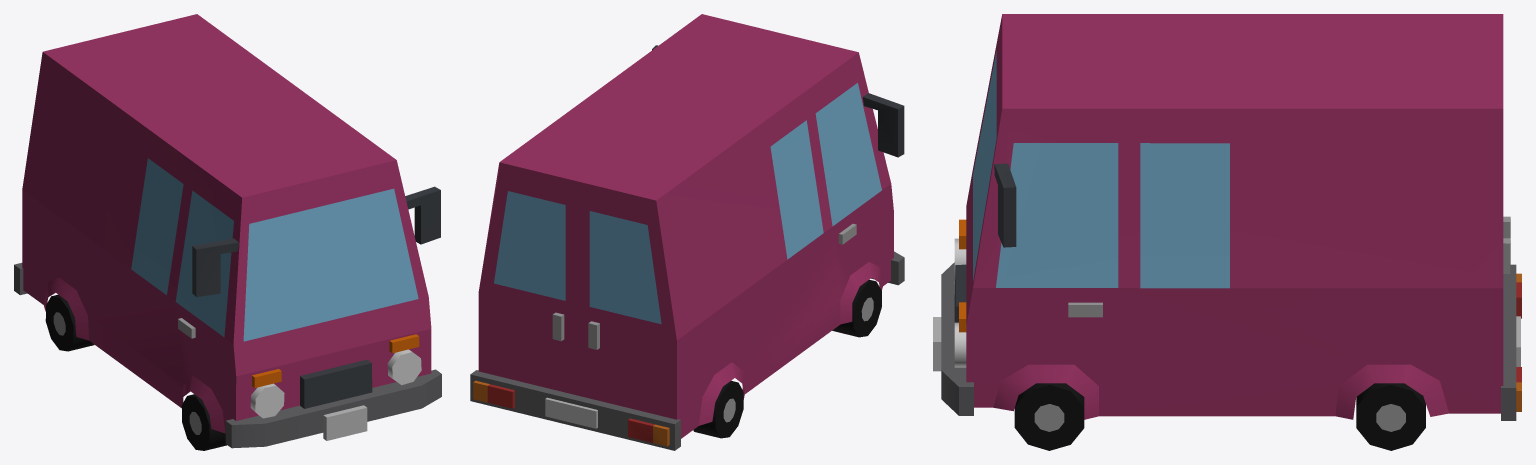
Rendered from Car_10_pink.fbx.
The picture shows the model from 3 angles, left to right: view 1: azimuth 30°, elevation 25°; view 2: azimuth 150°, elevation 25°; view 3: azimuth 270°, elevation 25°; orthographic projection. The views are drawn at different scales.
Parts seen in each view (by area): view 1: Car_10_pink; view 2: Car_10_pink; view 3: Car_10_pink.
Boxes of the visible parts, box(x1,y1,x2,y2) form: Car_10_pink: box(14, 14, 441, 450); Car_10_pink: box(470, 14, 904, 450); Car_10_pink: box(933, 14, 1521, 450).
Bounding box in the file's own units: 61.18 × 61.89 × 102.
